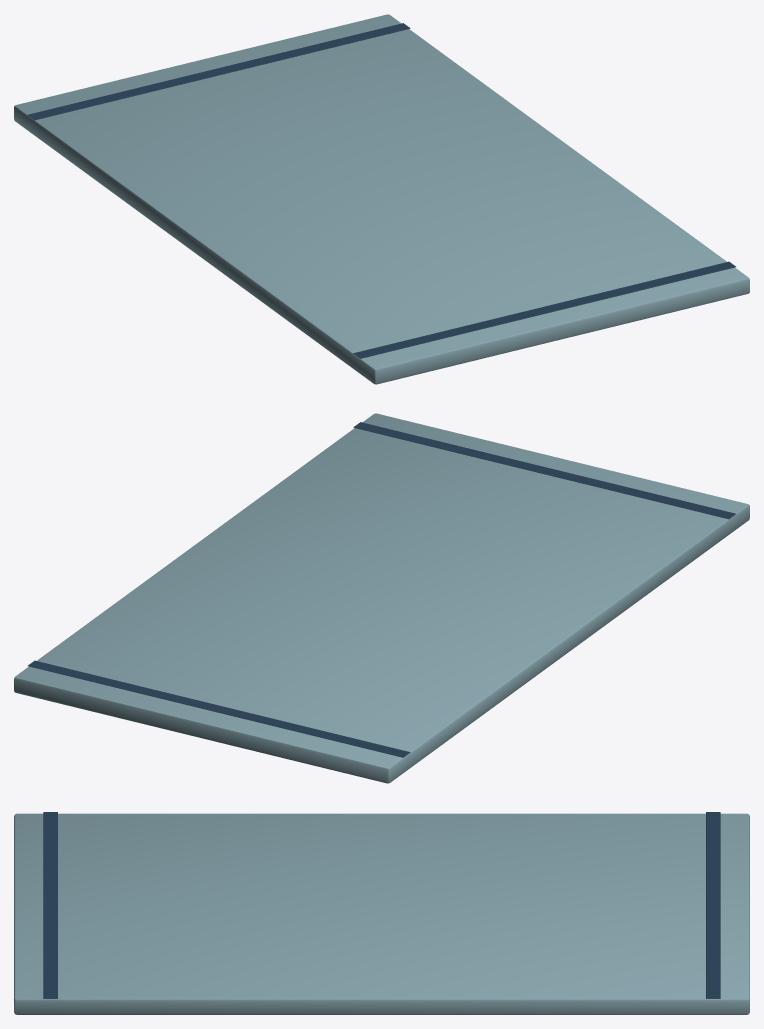
The model's file is exercise-mat.glb.
3 views of the same model, one above another, from view 1: azimuth 30°, elevation 25°; view 2: azimuth 150°, elevation 25°; view 3: azimuth 270°, elevation 25° (orthographic).
Visible parts, largest first — view 1: exercise-mat; view 2: exercise-mat; view 3: exercise-mat.
Boxes of the visible parts, x1,y1,x2,y2 form: exercise-mat: [14, 14, 749, 384]; exercise-mat: [14, 413, 749, 783]; exercise-mat: [14, 812, 749, 1014].
Bounding box in the file's own units: 1.2 × 0.052 × 2.
